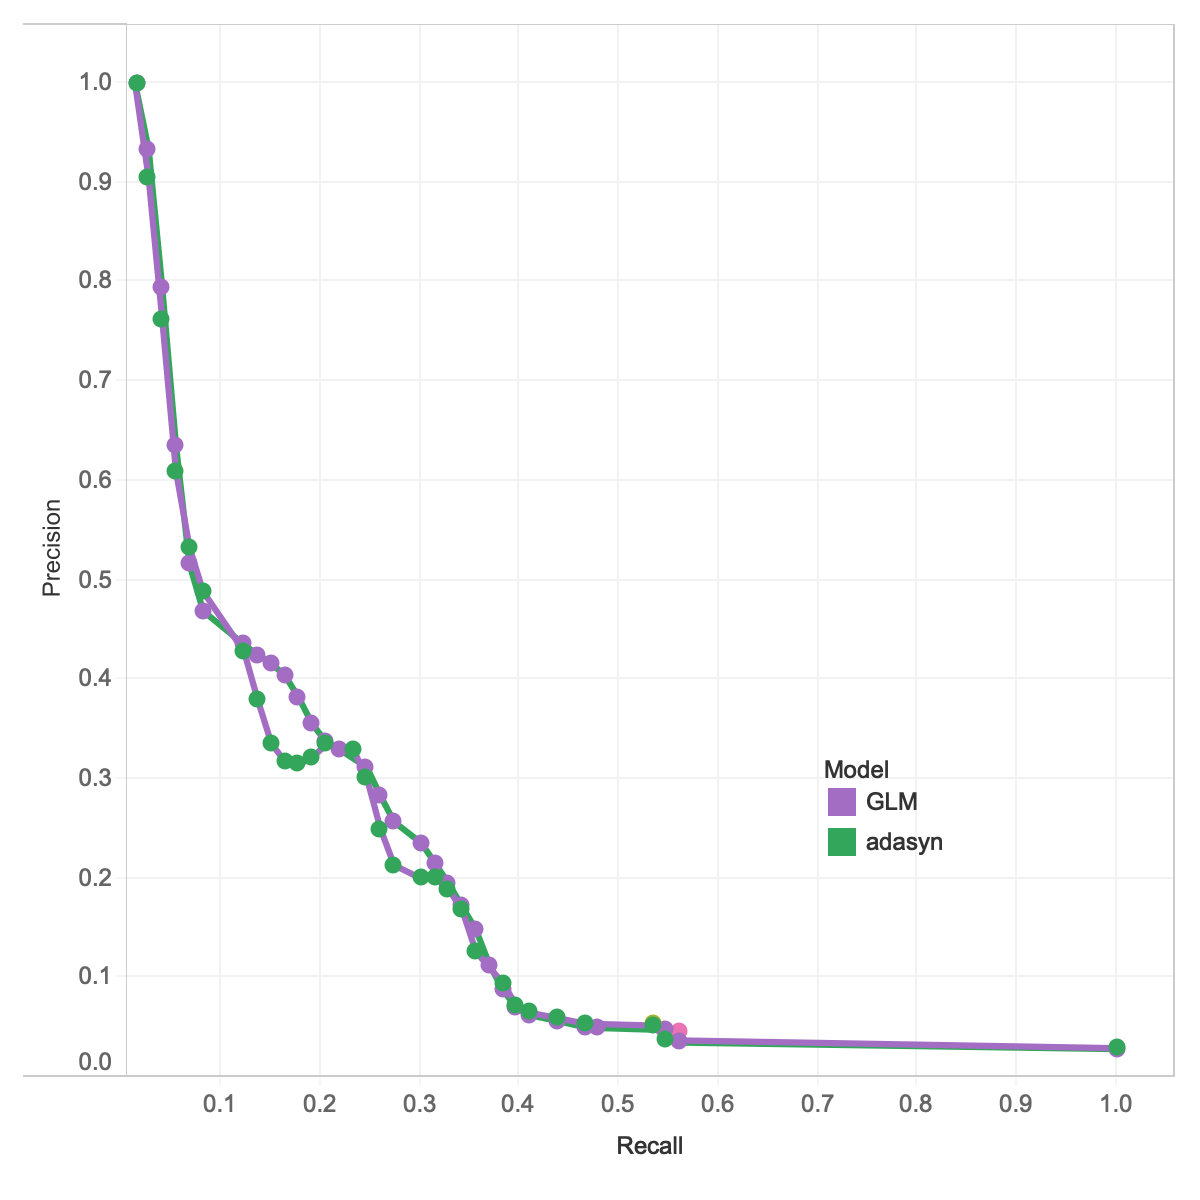

This screenshot's page, from the dashboard's own definition file:
{"tool":"tableau","page":{"name":"PR Dashboard","canvas":[600,600],"ordinal":5},"visuals":[{"type":"worksheet","title":"PR Curves","mark":"Line","rows":["precision","precision"],"cols":["recall"],"box":[8,8,584,584]},{"type":"legend","title":"PR Curves","param":"[federated.0yji1py00bsk8u17dxezr1am7r4p].[none:model:nk]","box":[435,436,140,55]}]}

Visuals, with their boxes in screenshot pixels (x1, y1, x2, y2), scaled from the page's 600x600 canvas onto the 1200x1200 screenshot:
"PR Curves" worksheet (Line marks): crop(16, 16, 1184, 1184)
"PR Curves" legend: crop(870, 872, 1150, 982)
